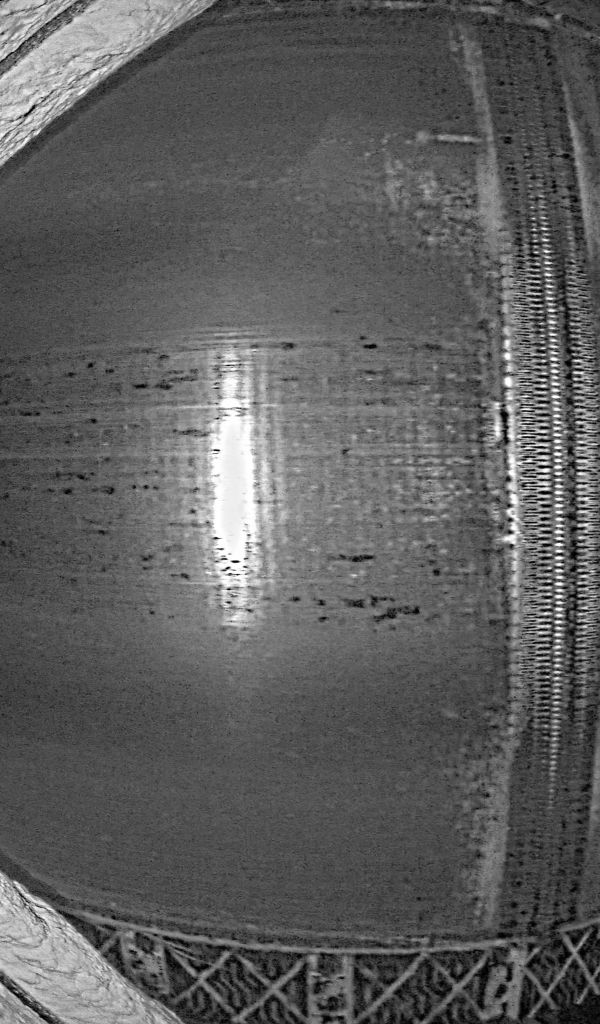splice: (452, 9, 600, 931)
